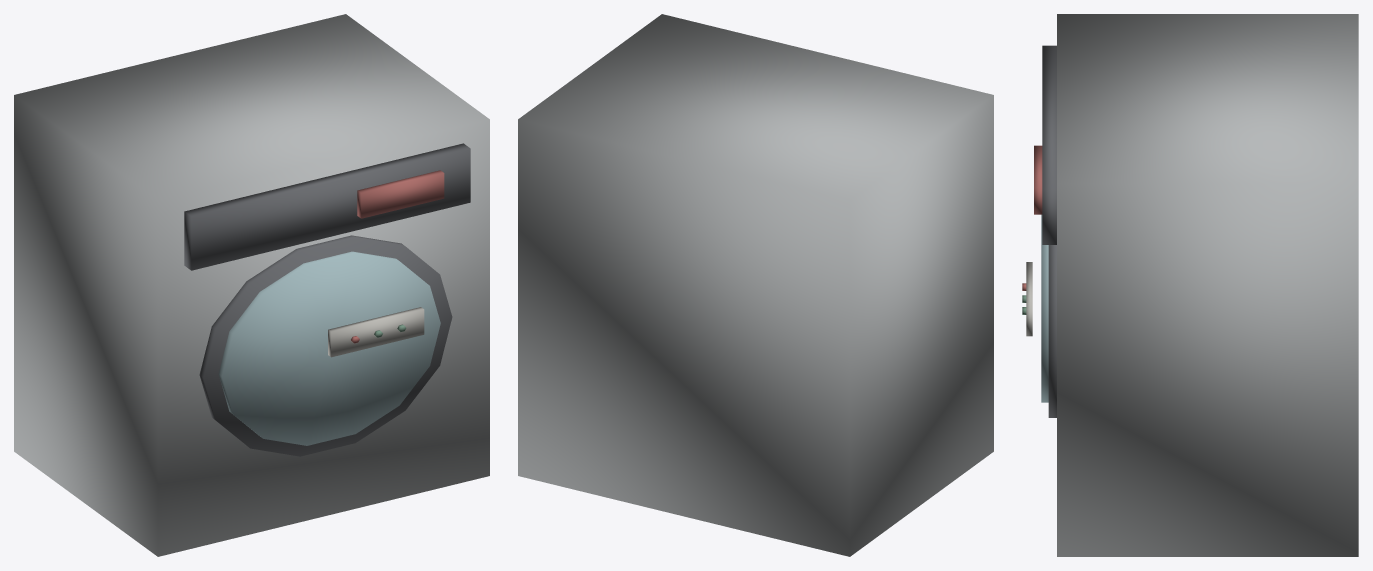
File: industrial_dryer__wide.glb
The picture shows the model from 3 angles, left to right: view 1: azimuth 30°, elevation 25°; view 2: azimuth 150°, elevation 25°; view 3: azimuth 270°, elevation 25°; orthographic projection. The views are drawn at different scales.
Visible parts, largest first — view 1: world; view 2: world; view 3: world.
Part boxes in pixels (x1=…): world: x1=14, y1=14, x2=489, y2=556; world: x1=518, y1=14, x2=993, y2=556; world: x1=1022, y1=14, x2=1358, y2=556.
Size of the model in its own units: 1.09 by 1.12 by 0.9135.
